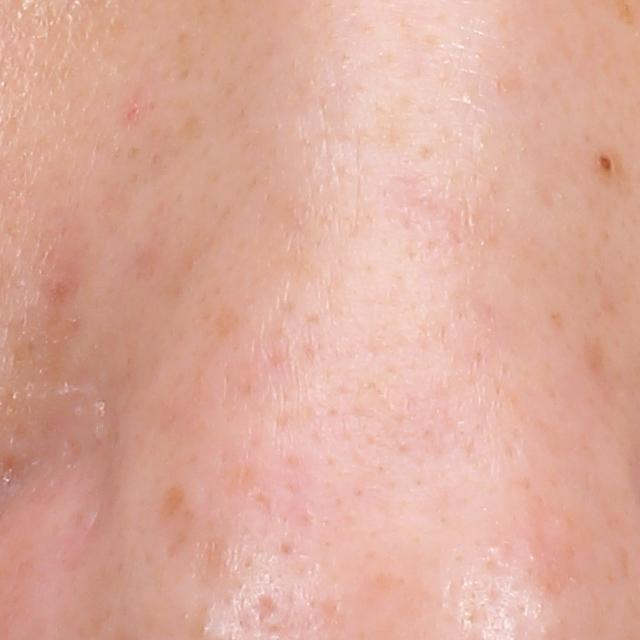atrophic_scar: (248, 590, 278, 624)
melasma: (582, 323, 624, 411), (156, 477, 192, 522)
